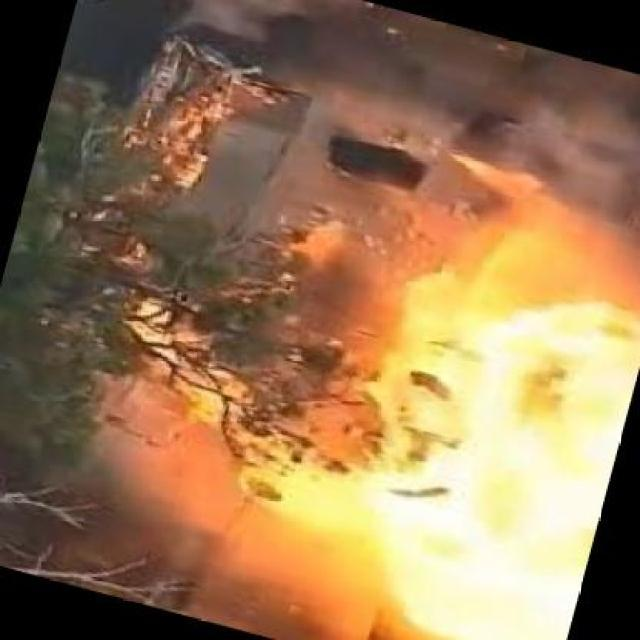Fire: (333, 182, 604, 625), (143, 286, 329, 542)
